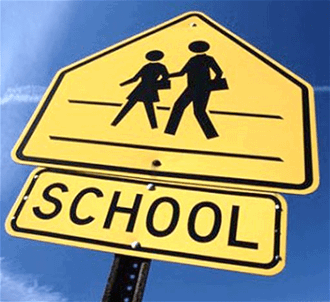slow: (11, 10, 322, 194)
